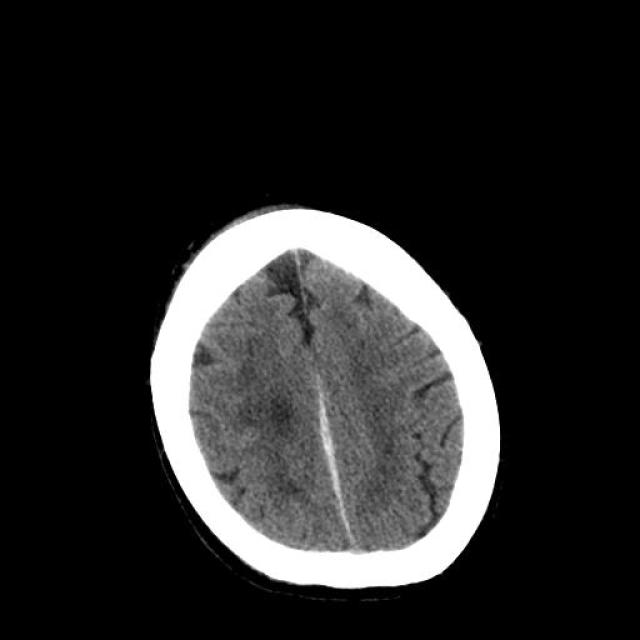Subdural: (305, 390, 386, 559)
